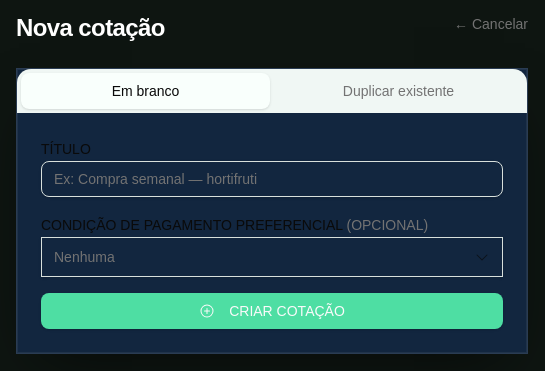
Test case: alternar entre "Em branco" e "Duplicar existente" troca o campo exibido
Check: the field labelled "Título" is shown, box [41,161,503,197]
Check: the field labelled "Cotação de origem" is not shown
Step 1. Click the tab "Duplicar existente" → [398, 91], box [274,73,523,109]
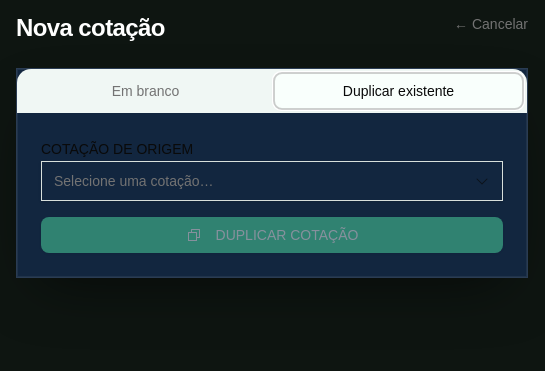
Check: the label labelled "Título" is gone
Check: the button named "Cotação de origem" is shown, box [41,161,503,201]
Step 2. Click the tab "Em branco" → [146, 91], box [21,73,270,109]
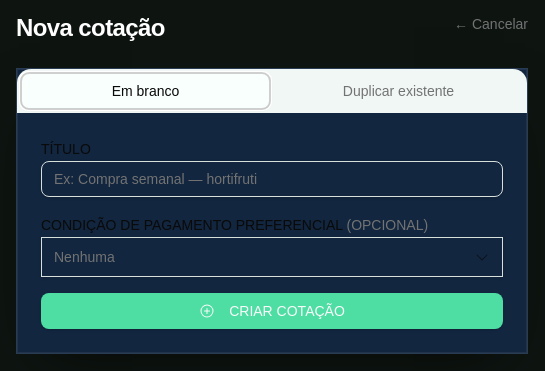
Check: the field labelled "Título" is shown, box [41,161,503,197]
Check: the label labelled "Cotação de origem" is gone
